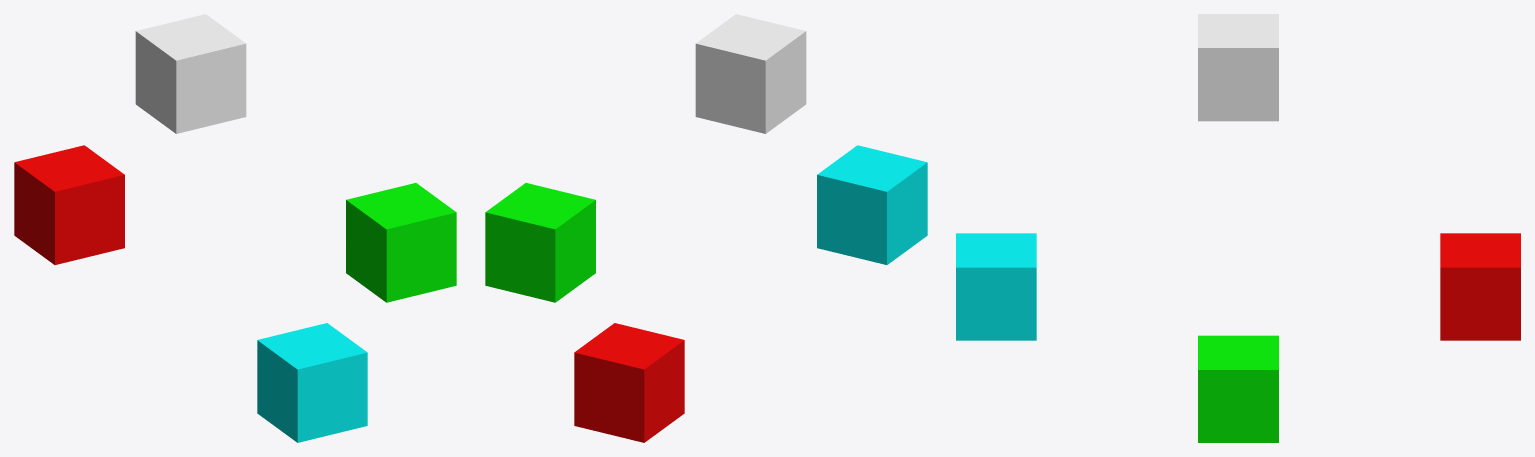
Rendered from iter_0.obj.
3 views of the same model, side by side, from view 1: azimuth 30°, elevation 25°; view 2: azimuth 150°, elevation 25°; view 3: azimuth 270°, elevation 25° (orthographic).
Parts seen in each view (by area): view 1: iter_0; view 2: iter_0; view 3: iter_0.
Part boxes in pixels (x1,y1,x2,y2): iter_0: (14,14,456,442); iter_0: (485,14,927,442); iter_0: (956,14,1520,442).
Size of the model in its own units: 0.4 by 0.4 by 0.7.
